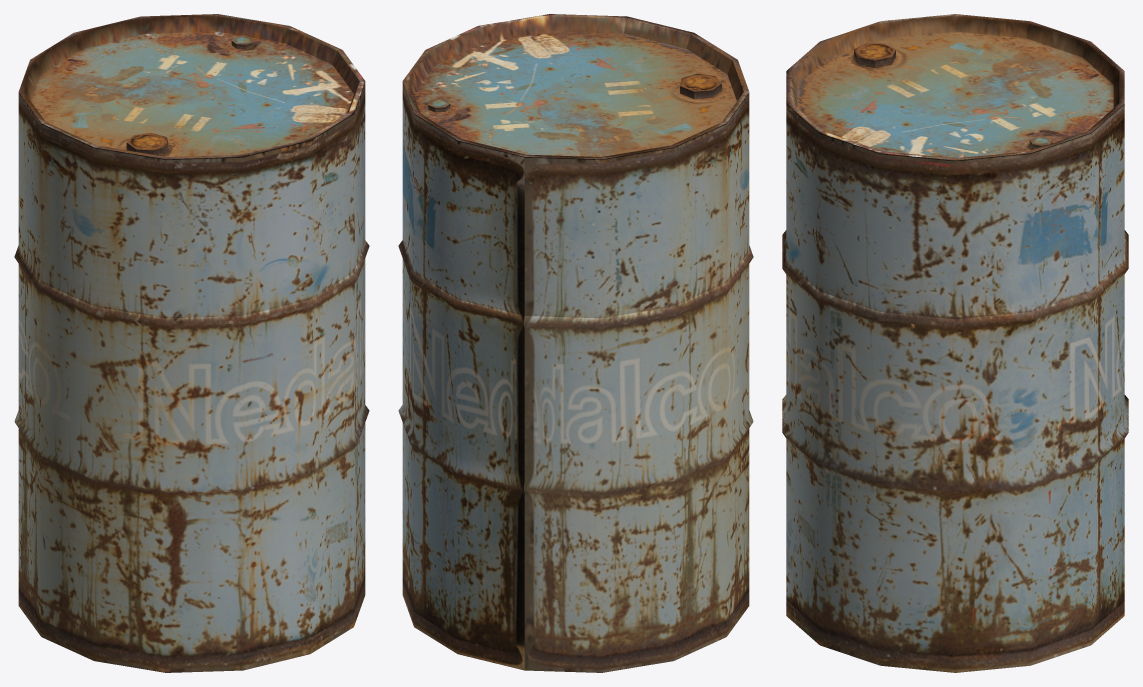
File: Barrel.fbx
3 views of the same model, side by side, from view 1: azimuth 30°, elevation 25°; view 2: azimuth 150°, elevation 25°; view 3: azimuth 270°, elevation 25° (orthographic).
Visible parts, largest first — view 1: pCylinder4; view 2: pCylinder4; view 3: pCylinder4.
Boxes of the visible parts, box(x1,y1,x2,y2) form: pCylinder4: box(14, 14, 369, 672); pCylinder4: box(398, 14, 753, 672); pCylinder4: box(782, 14, 1128, 672).
Size of the model in its own units: 0.02 by 0.0319 by 0.0195.
